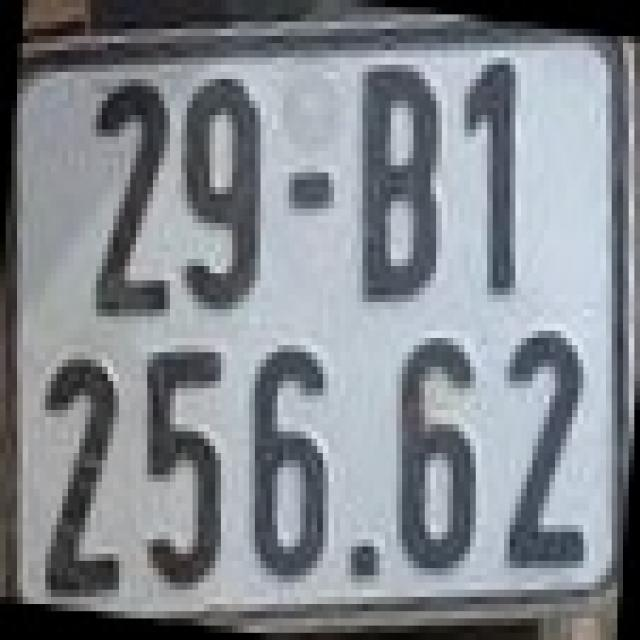1: (459, 50, 532, 295)
2: (498, 324, 595, 568), (85, 72, 176, 316), (39, 352, 124, 597)
5: (142, 338, 226, 590)
6: (391, 331, 481, 575), (244, 338, 334, 575)
9: (175, 72, 272, 309)
B: (351, 58, 448, 309)
